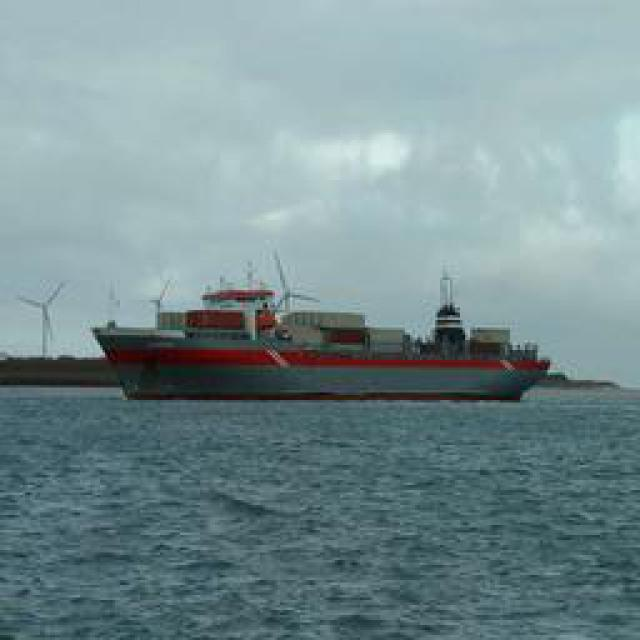Ship: (96, 262, 554, 405)
